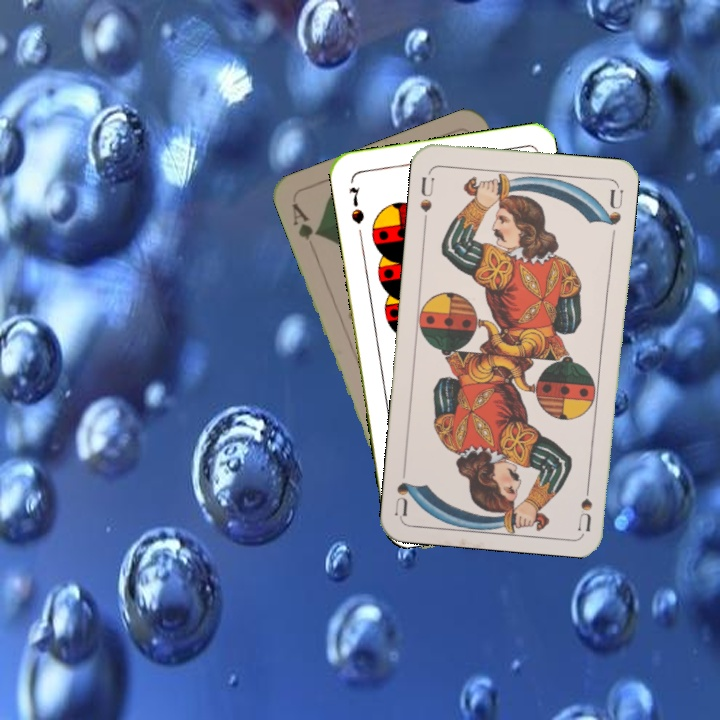GA: (287, 198, 322, 243)
S7: (345, 182, 367, 227)
SU: (574, 472, 595, 532), (416, 173, 437, 226)
